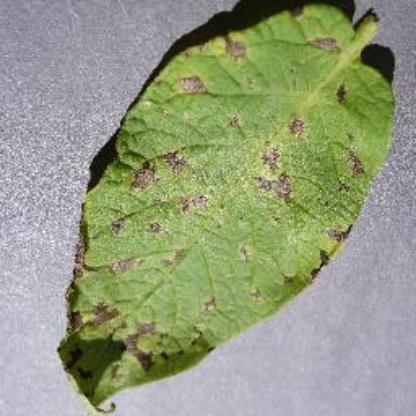Early-Blight: (59, 6, 402, 410)
